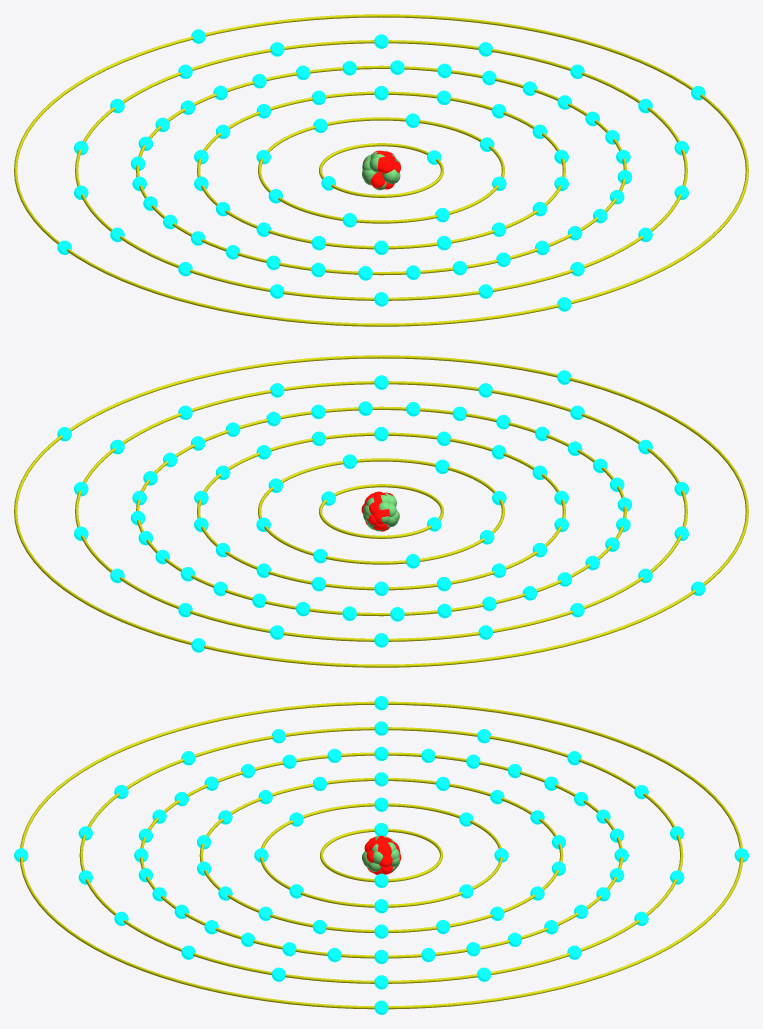
The model's file is atomo_82.glb.
The picture shows the model from 3 angles, top to bottom: view 1: azimuth 30°, elevation 25°; view 2: azimuth 150°, elevation 25°; view 3: azimuth 270°, elevation 25°; orthographic projection.
Parts seen in each view (by area): view 1: orbital_6, orbital_5, orbital_4, orbital_3, orbital_2, orbital_1; view 2: orbital_6, orbital_5, orbital_4, orbital_3, orbital_2, orbital_1; view 3: orbital_6, orbital_5, orbital_4, orbital_3, orbital_2, orbital_1.
Part boxes in pixels (x1,y1,x2,y2): orbital_6: [14, 14, 748, 326]; orbital_5: [75, 40, 687, 300]; orbital_4: [136, 65, 626, 275]; orbital_3: [197, 91, 565, 249]; orbital_2: [258, 117, 504, 223]; orbital_1: [319, 143, 443, 197]; orbital_6: [14, 355, 748, 667]; orbital_5: [75, 381, 687, 641]; orbital_4: [136, 406, 626, 616]; orbital_3: [197, 432, 565, 590]; orbital_2: [258, 458, 504, 564]; orbital_1: [319, 484, 443, 538]; orbital_6: [20, 701, 742, 1009]; orbital_5: [79, 727, 683, 983]; orbital_4: [140, 752, 622, 958]; orbital_3: [199, 778, 563, 932]; orbital_2: [260, 803, 502, 907]; orbital_1: [320, 828, 442, 882].
Bounding box in the file's own units: 18.36 × 0.9972 × 18.36.
